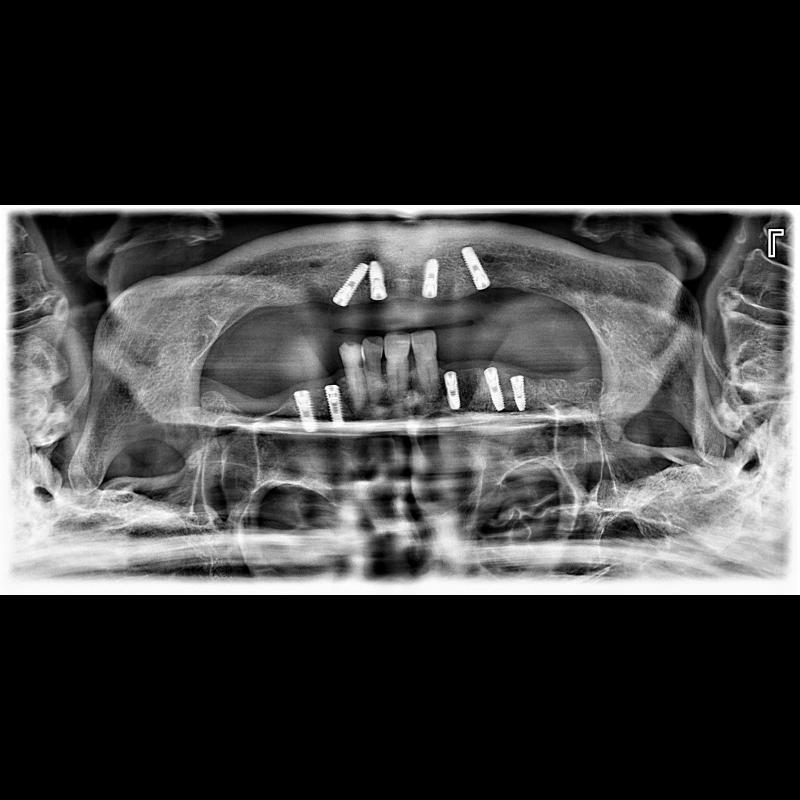osstem: (332, 260, 366, 308), (324, 383, 348, 431), (290, 390, 316, 434), (482, 366, 506, 410), (462, 254, 491, 290), (441, 369, 463, 413), (365, 262, 389, 302), (418, 258, 442, 298), (507, 374, 527, 412)
